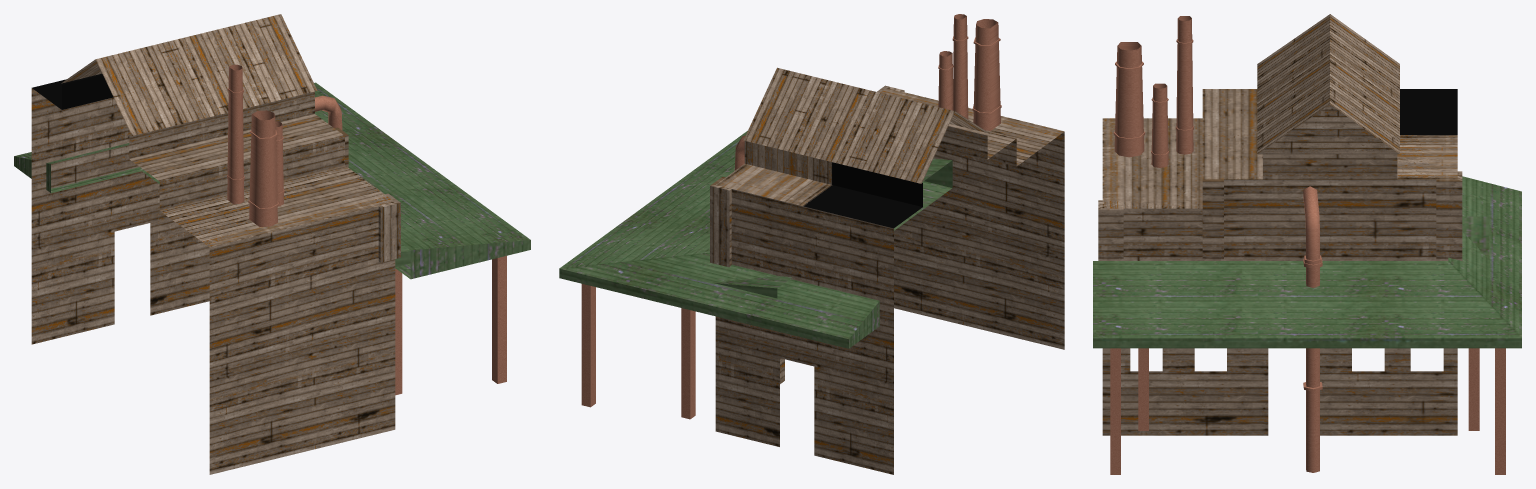
The model's file is generalStore_platformLG.fbx.
3 views of the same model, side by side, from view 1: azimuth 30°, elevation 25°; view 2: azimuth 150°, elevation 25°; view 3: azimuth 270°, elevation 25° (orthographic). The views are drawn at different scales.
Parts seen in each view (by area): view 1: general_store, generalStore_platformLG, polySurface3, PipeStacks, generalStore_platformSM1, GenStore_Stick_on; view 2: general_store, generalStore_platformLG, polySurface3, PipeStacks, generalStore_platformSM1; view 3: general_store, generalStore_platformLG, polySurface3, PipeStacks, GenStore_Stick_on, generalStore_platformSM1.
Boxes of the visible parts, box(x1,y1,x2,y2) form: general_store: box(31, 73, 400, 474); generalStore_platformLG: box(14, 82, 530, 383); polySurface3: box(61, 14, 317, 135); PipeStacks: box(227, 64, 284, 226); generalStore_platformSM1: box(142, 170, 410, 395); GenStore_Stick_on: box(315, 95, 342, 130); general_store: box(710, 85, 1064, 474); generalStore_platformLG: box(559, 130, 879, 407); polySurface3: box(743, 67, 989, 183); PipeStacks: box(938, 14, 1001, 130); generalStore_platformSM1: box(681, 158, 952, 419); general_store: box(1098, 89, 1462, 435); generalStore_platformLG: box(1093, 176, 1521, 474); polySurface3: box(1257, 14, 1399, 154); PipeStacks: box(1113, 16, 1193, 167); GenStore_Stick_on: box(1303, 186, 1322, 472); generalStore_platformSM1: box(1138, 216, 1489, 430).
Size of the model in its own units: 1044 by 1175 by 1229.
